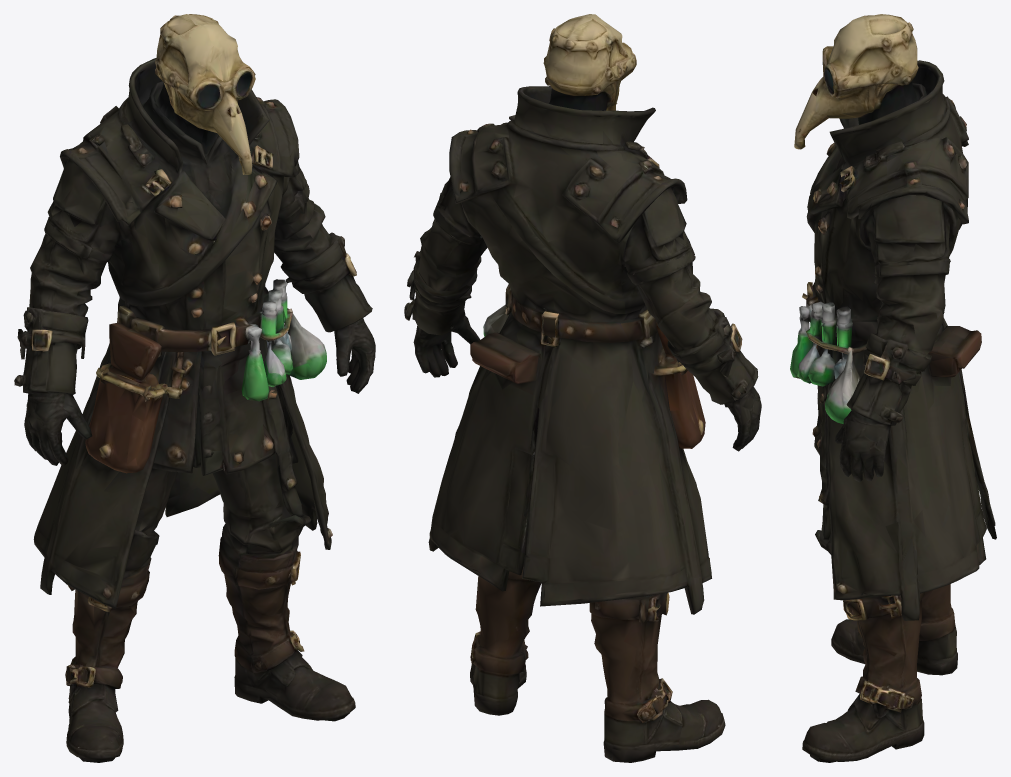
Rendered from alchemist.glb.
The picture shows the model from 3 angles, left to right: view 1: azimuth 30°, elevation 25°; view 2: azimuth 150°, elevation 25°; view 3: azimuth 270°, elevation 25°; orthographic projection. The views are drawn at different scales.
Visible parts, largest first — view 1: tripo_node_c3de6a6d; view 2: tripo_node_c3de6a6d; view 3: tripo_node_c3de6a6d.
Part boxes in pixels (box(x1,y1,x2,y2)): tripo_node_c3de6a6d: box(14, 14, 375, 762); tripo_node_c3de6a6d: box(404, 14, 761, 762); tripo_node_c3de6a6d: box(790, 14, 996, 762).
Size of the model in its own units: 0.9514 by 1.85 by 0.5061.
Materials: 1 (1 with a texture image).
